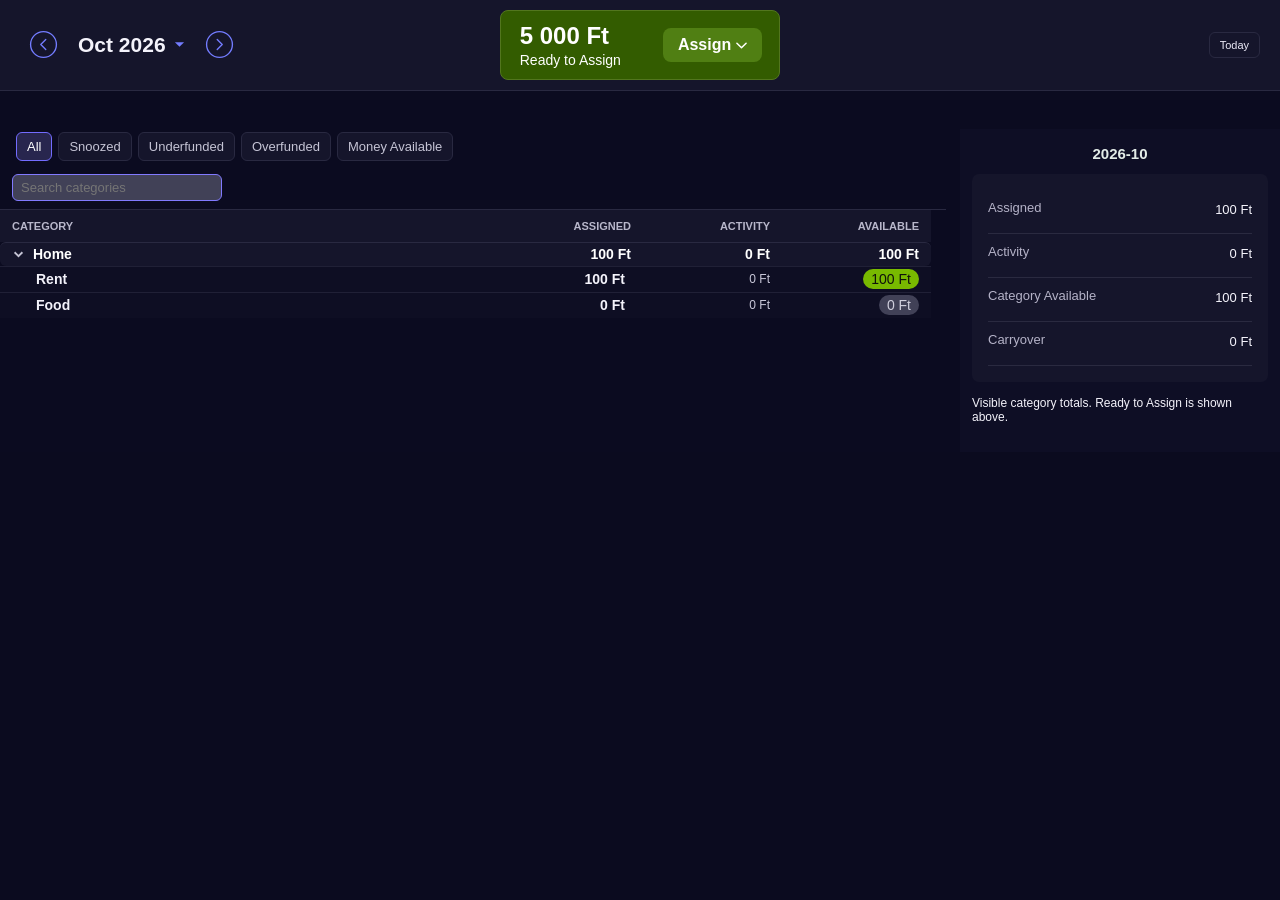
surfaces a failed assignment and never repeats its write
The image size is (1280, 900).
Step 1. Click the button "Assign" → click(713, 45), box x1=663 y1=28 x2=762 y2=62
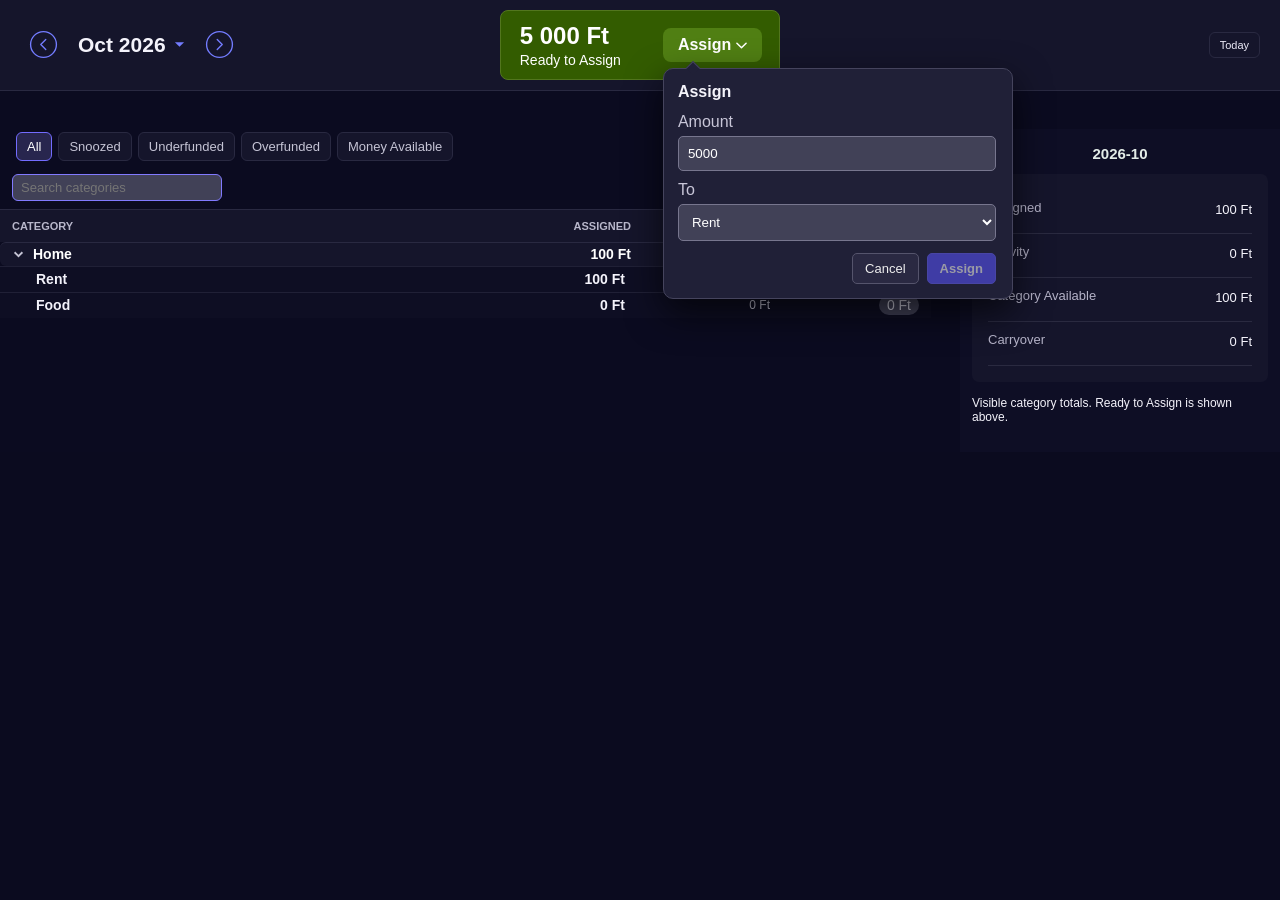
Step 2. Select "Rent" in the dropdown named "Assign to category" → (837, 222), box x1=678 y1=204 x2=996 y2=241
Step 3. Select "Rent" in the dropdown named "Assign to category" → (837, 222), box x1=678 y1=204 x2=996 y2=241
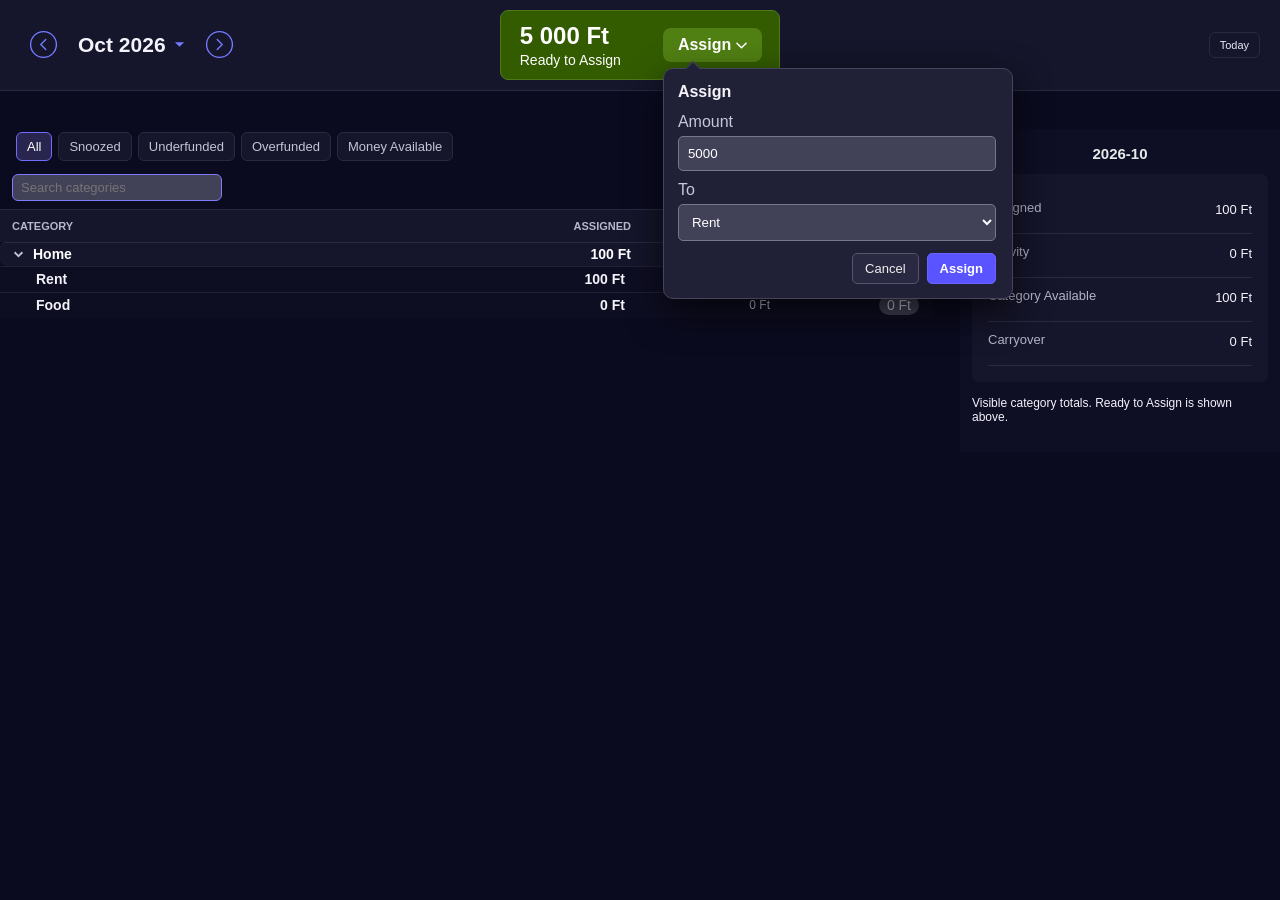
Step 4. Submit the form with class "rta-assign-scroll", box x1=678 y1=113 x2=998 y2=284
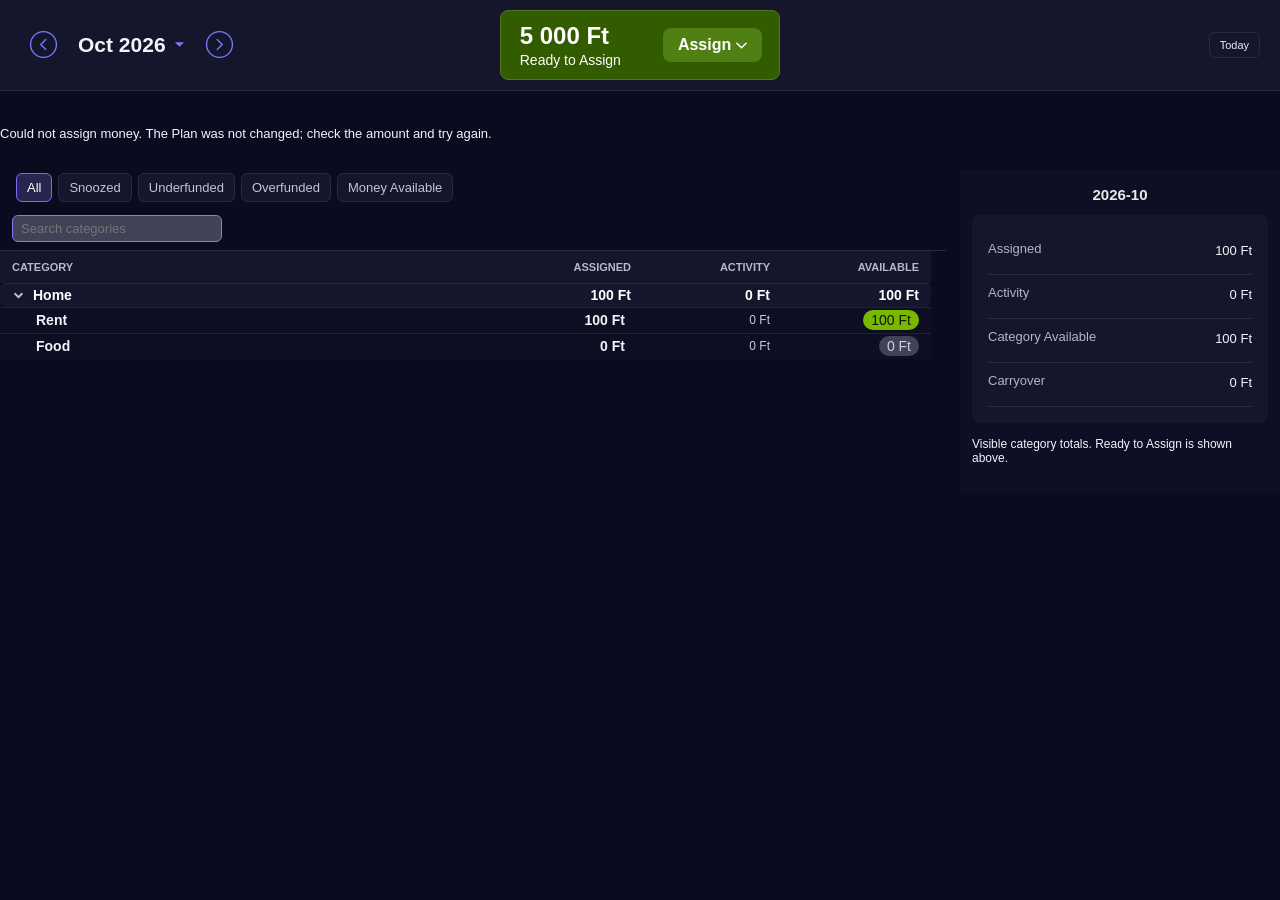
Check: the message with class "editor-error" shows "Could not assign money", box x1=0 y1=126 x2=492 y2=141
